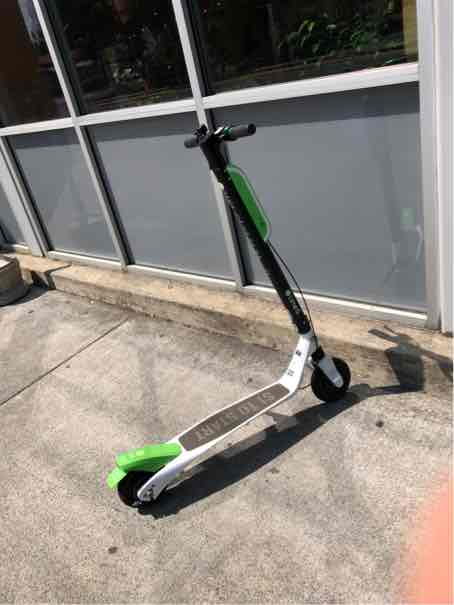scooter: (102, 107, 359, 522)
